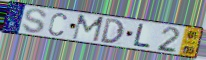2: (156, 26, 181, 54)
C: (47, 11, 69, 37)
D: (100, 17, 126, 45)
L: (132, 23, 153, 49)
M: (71, 13, 106, 44)
S: (21, 8, 48, 35)
